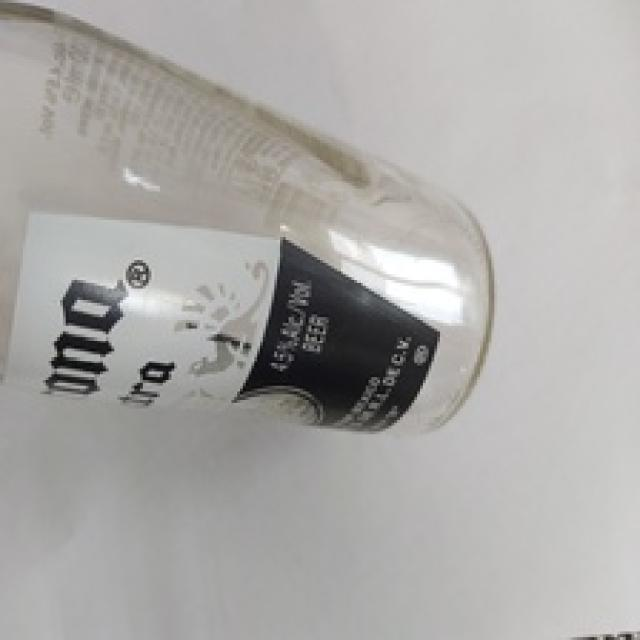Glass: (0, 3, 496, 434)
